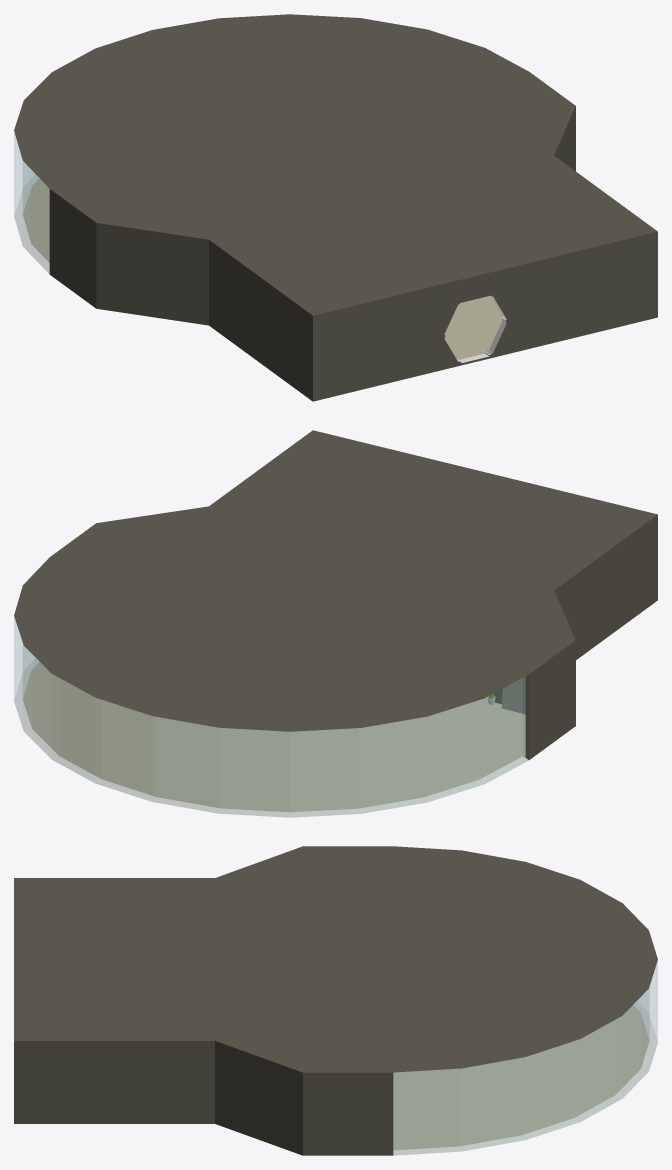
File: PrimaryRoom3.glb
3 renders of one model, top to bottom at view 1: azimuth 30°, elevation 25°; view 2: azimuth 150°, elevation 25°; view 3: azimuth 270°, elevation 25°, orthographic. The views are drawn at different scales.
Parts seen in each view (by area): view 1: Cube, Cube.002; view 2: Cube, Cube.002; view 3: Cube, Cube.002.
Boxes of the visible parts, x1=… form: Cube: x1=14, y1=14, x2=657, y2=401; Cube.002: x1=14, y1=132, x2=49, y2=272; Cube: x1=14, y1=430, x2=657, y2=817; Cube.002: x1=14, y1=617, x2=528, y2=816; Cube: x1=14, y1=846, x2=657, y2=1155; Cube.002: x1=393, y1=961, x2=657, y2=1154.
Size of the model in its own units: 23.36 by 4 by 28.09.
